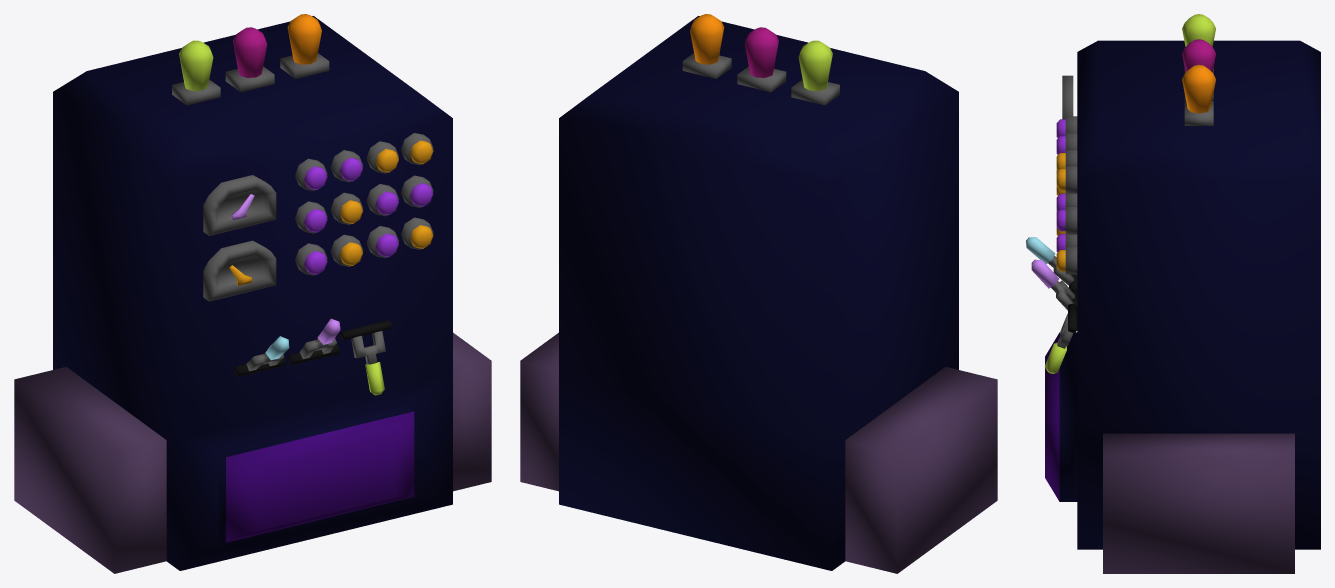
Rendered from Control_Panel.fbx.
3 renders of one model, left to right at view 1: azimuth 30°, elevation 25°; view 2: azimuth 150°, elevation 25°; view 3: azimuth 270°, elevation 25°, orthographic. The views are drawn at different scales.
Parts seen in each view (by area): view 1: Cube.024; view 2: Cube.024; view 3: Cube.024.
Part boxes in pixels (box(x1,y1,x2,y2)): Cube.024: box(14, 14, 491, 573); Cube.024: box(520, 14, 997, 573); Cube.024: box(1026, 14, 1320, 573).
Bounding box in the file's own units: 342 × 401 × 242.
